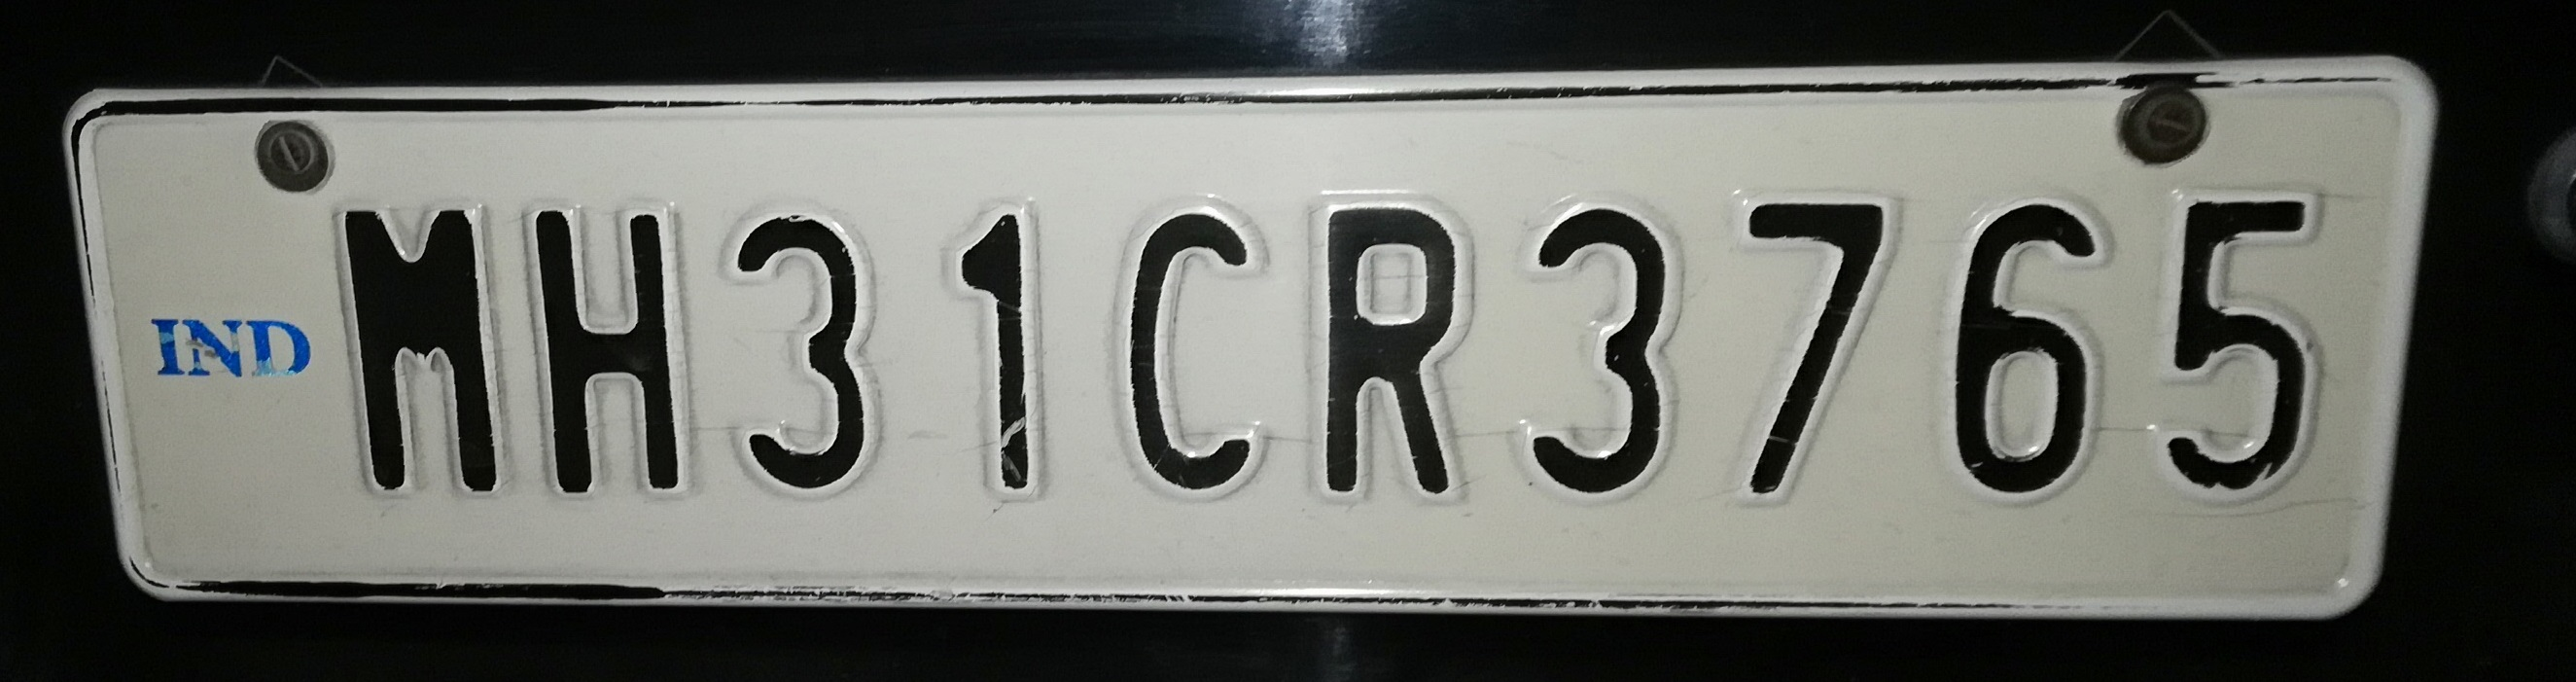numberplate: (38, 63, 2448, 626)
